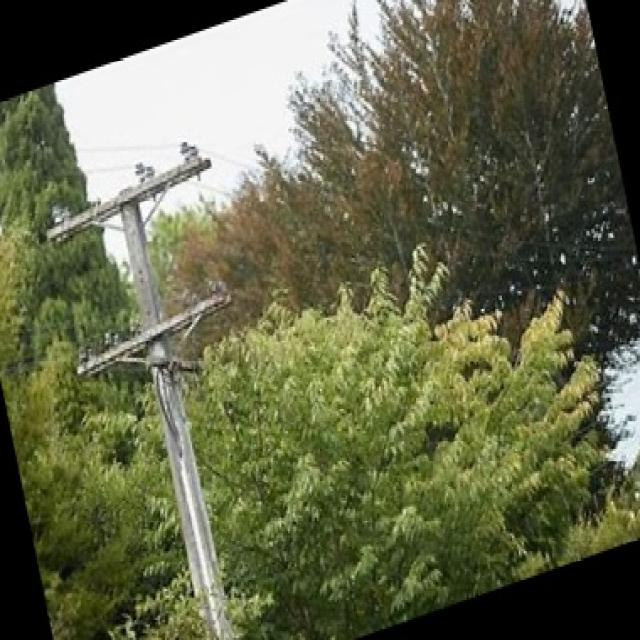utility poles: (48, 132, 266, 628)
